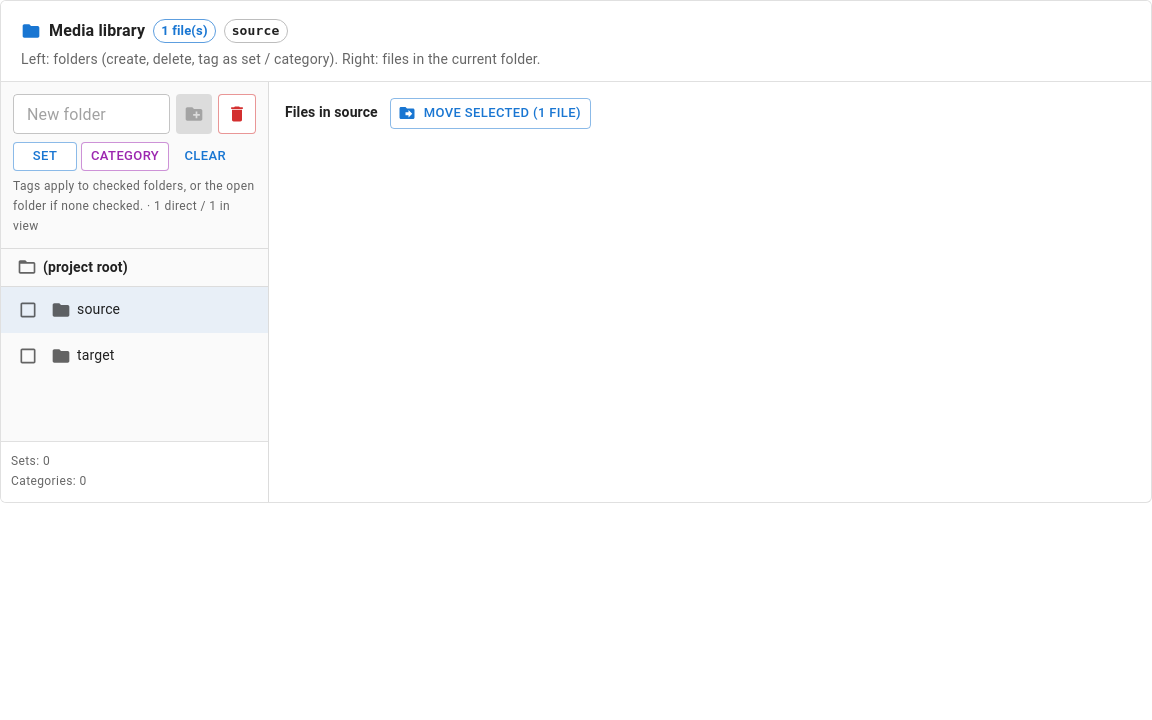
Test: failed metadata save never changes storage objects
Click the button "Move selected (1 file)" at (490, 113), box [390,98,591,129]
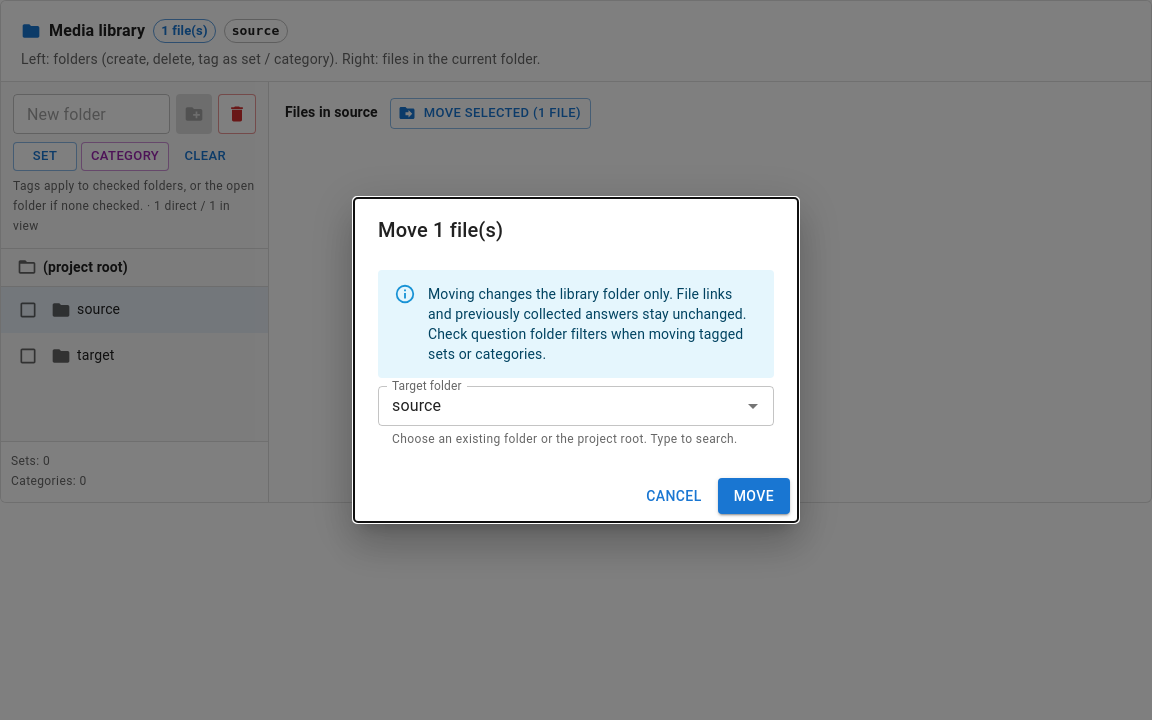
Press the mouse on the dropdown labelled "Target folder" at (546, 406), box [384,392,709,420]
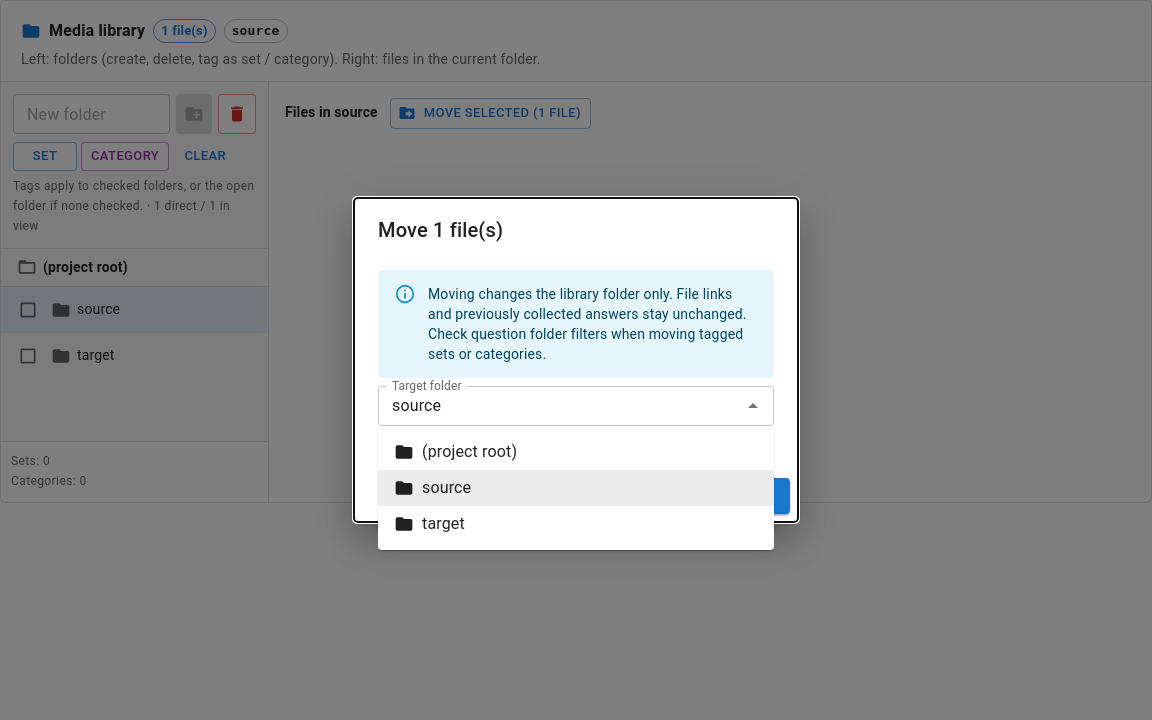
Click the option "target" at (429, 524), box [394,514,465,534]
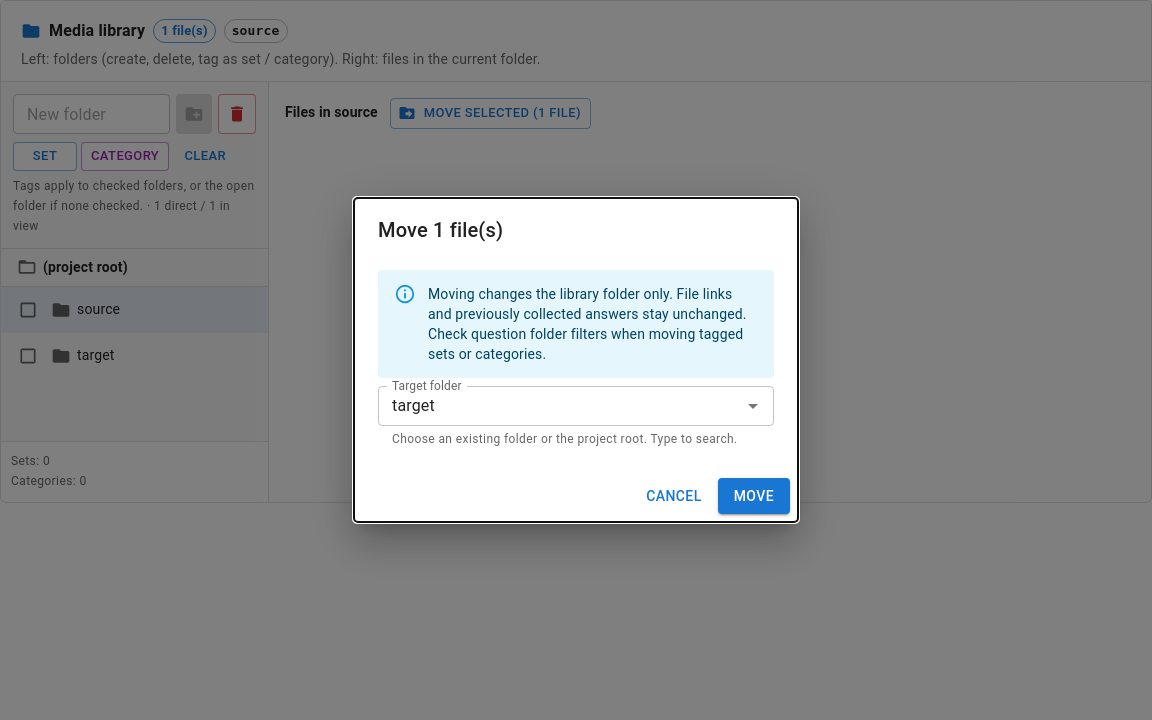
Click the button "Move" at (754, 496), box [718,478,790,514]
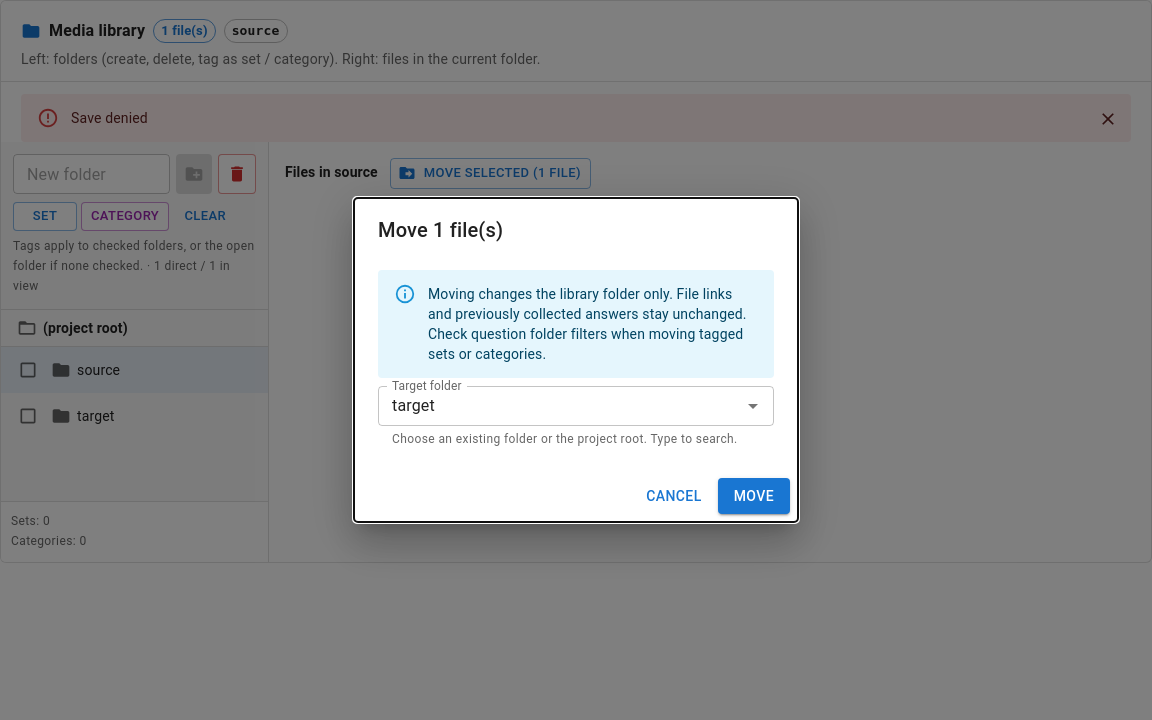
Expected: the text "Save denied" is shown, [71,110,148,126]
